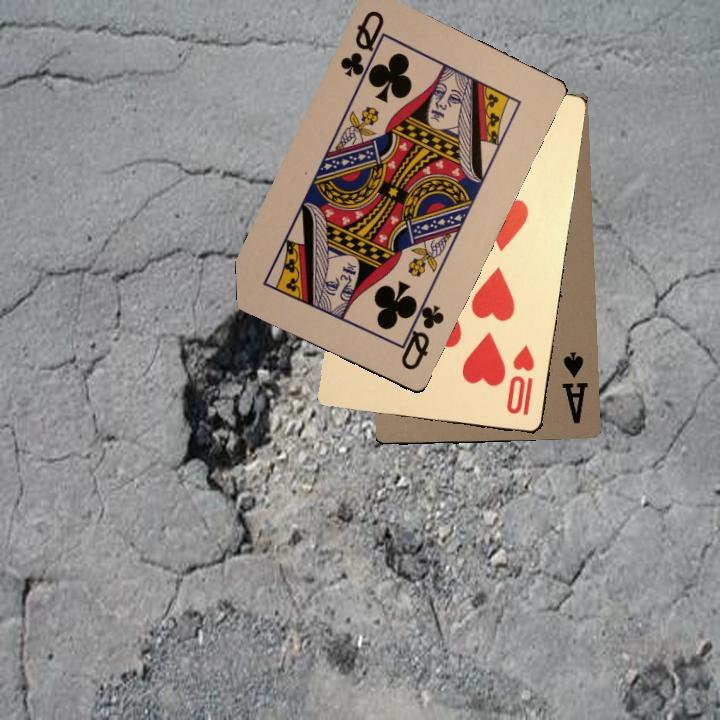10h: (502, 341, 537, 418)
As: (558, 348, 590, 426)
Qc: (336, 6, 390, 87), (396, 294, 447, 373)
